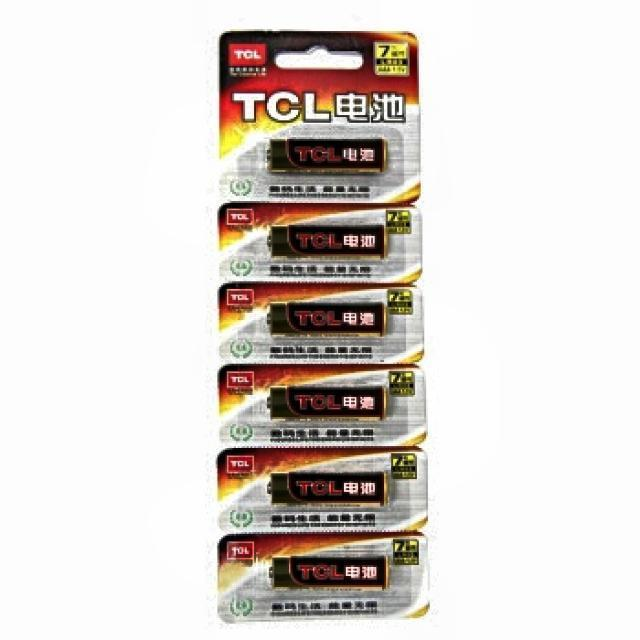battery: (219, 31, 429, 621)
